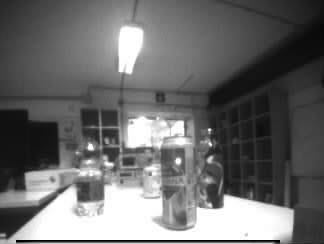Bottle: (75, 136, 105, 214), (197, 128, 224, 208)
Tin can: (161, 136, 196, 228), (142, 166, 160, 198)
